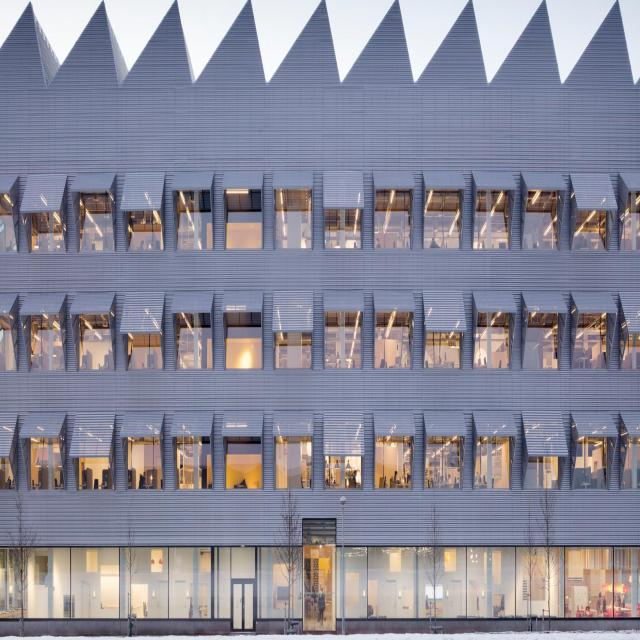door: (231, 576, 257, 637)
window: (0, 545, 640, 620), (425, 189, 461, 252), (571, 310, 608, 370), (375, 190, 412, 249), (80, 191, 116, 251), (324, 312, 362, 368), (176, 190, 212, 249), (473, 311, 509, 368), (176, 311, 212, 368), (523, 313, 559, 369), (30, 315, 65, 372), (79, 314, 113, 372), (276, 436, 313, 489), (176, 436, 213, 489), (424, 436, 460, 490), (474, 436, 510, 490), (374, 313, 410, 366), (128, 435, 163, 489), (376, 436, 411, 489), (572, 437, 606, 490), (31, 438, 65, 490), (225, 444, 262, 489), (226, 324, 262, 369), (274, 331, 313, 370), (274, 208, 311, 249), (31, 212, 67, 253), (226, 209, 262, 249), (128, 212, 164, 251), (326, 209, 361, 249), (424, 332, 460, 368), (572, 211, 606, 249), (128, 333, 163, 369), (475, 211, 509, 248), (522, 211, 556, 248), (618, 195, 640, 248), (523, 456, 558, 489), (326, 457, 362, 488), (79, 458, 114, 489), (621, 438, 640, 492), (0, 324, 18, 373), (621, 334, 640, 368), (0, 215, 16, 253), (0, 459, 14, 485)
